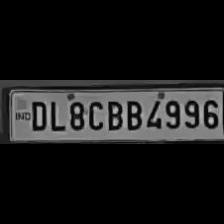4: (143, 96, 161, 130)
6: (200, 96, 218, 130)
8: (66, 98, 86, 132)
9: (162, 96, 180, 130), (181, 96, 199, 130)
B: (122, 96, 142, 132), (104, 97, 122, 131)
C: (86, 97, 104, 131)
D: (27, 98, 47, 132)
L: (48, 97, 64, 131)
